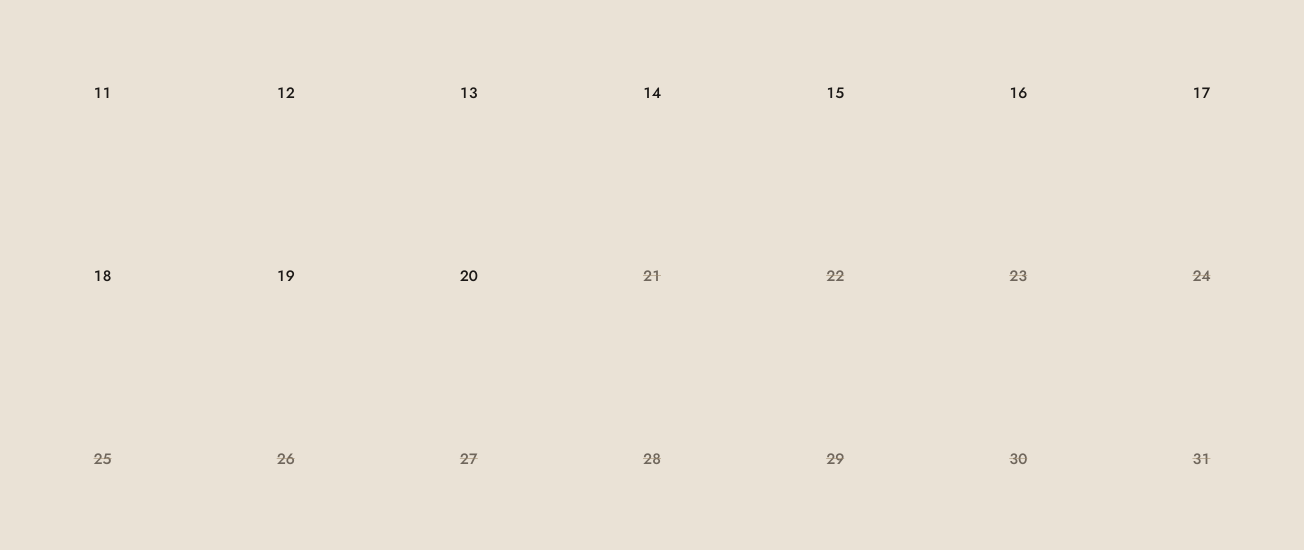
Test: a day that is not on offer › says how far ahead the calendar goes
The width and height of the screenshot is (1304, 550).
(page scrolled)
What coordinates should you click on to do the following:
click the cell named "Wednesday 21 October"
I would click on:
 (652, 276)
Its box is left=561, top=186, right=742, bottom=367.
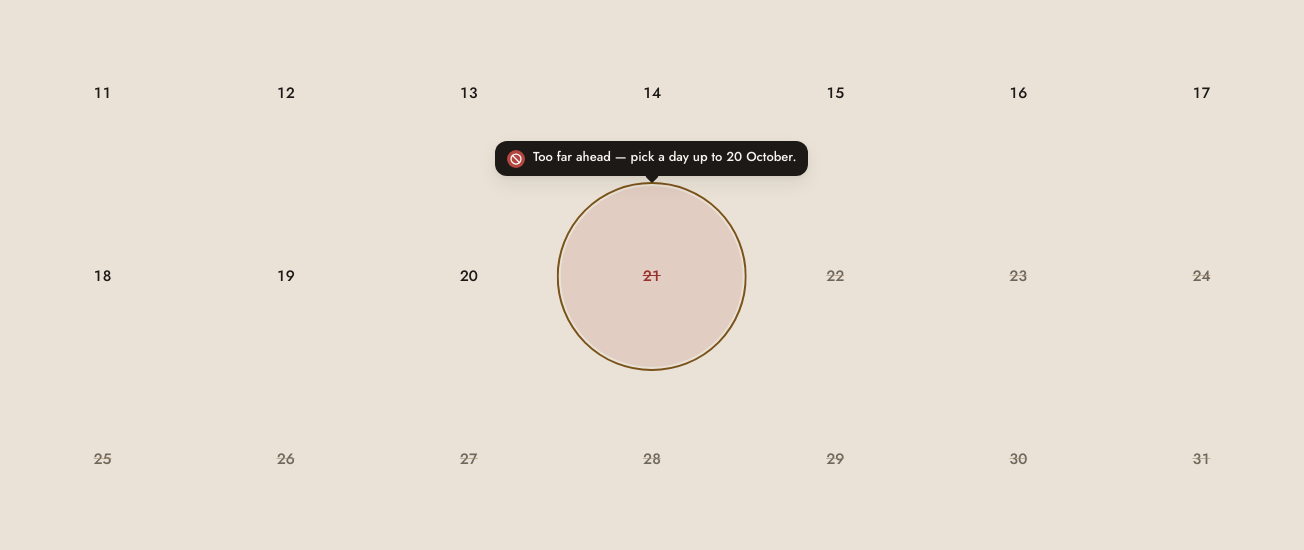
Now the tooltip reads "Too far ahead — pick a day up to 20 October.", box left=534, top=147, right=797, bottom=166
